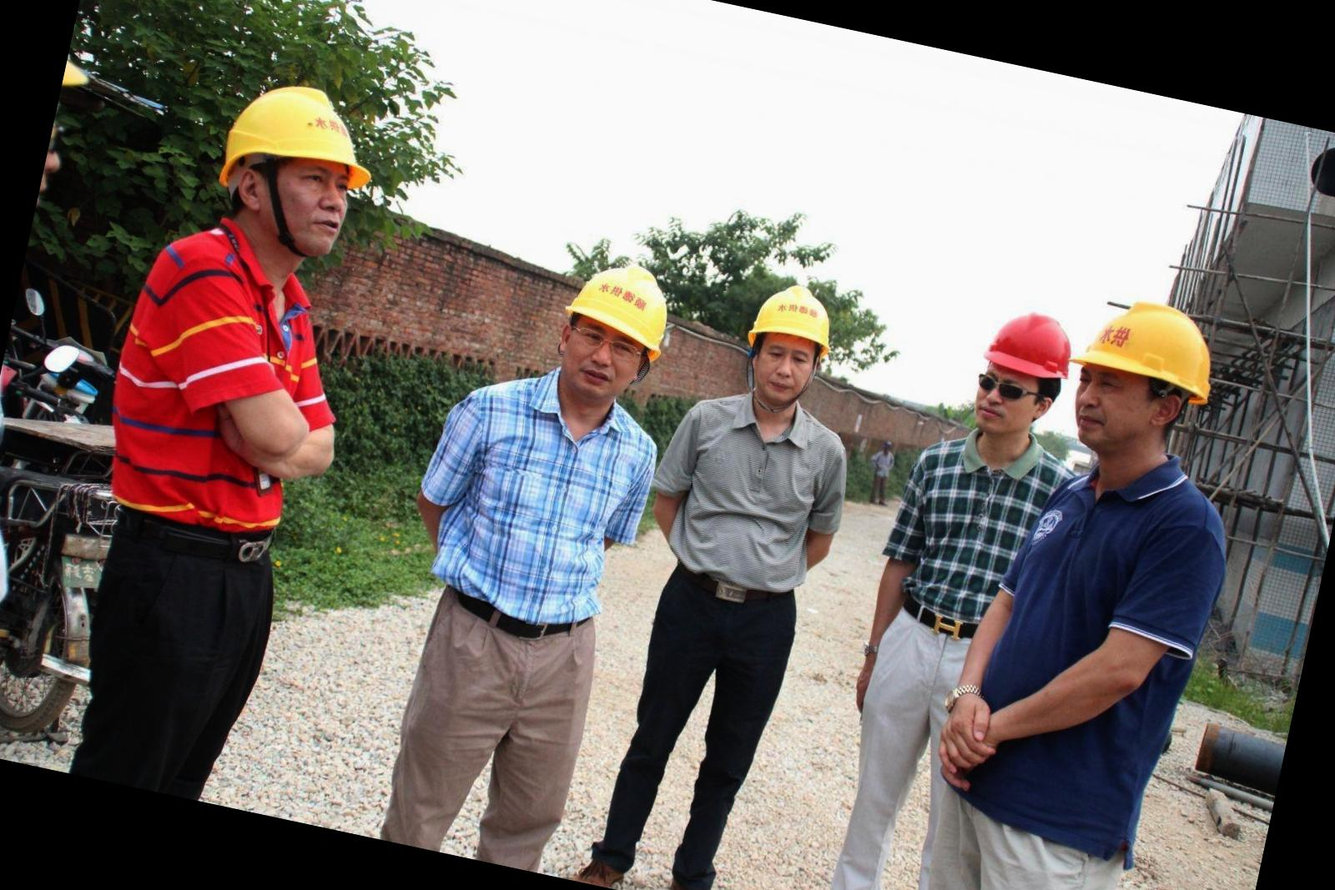helmet: (1058, 272, 1239, 444), (208, 63, 393, 225), (550, 249, 686, 373), (965, 302, 1086, 437), (731, 271, 854, 389)
no_vest: (938, 422, 1249, 841), (78, 219, 371, 561), (399, 372, 671, 656), (640, 382, 865, 615), (873, 420, 1086, 656)
person: (24, 53, 409, 812), (887, 265, 1287, 890), (345, 225, 695, 878), (564, 259, 890, 890), (781, 289, 1092, 890)
